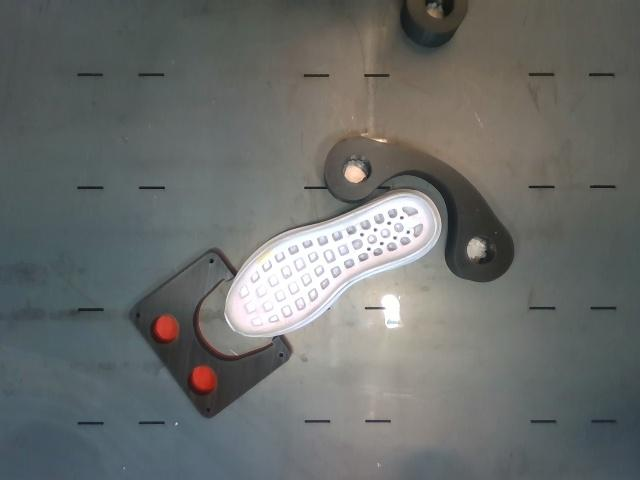shoes: (225, 194, 436, 336)
